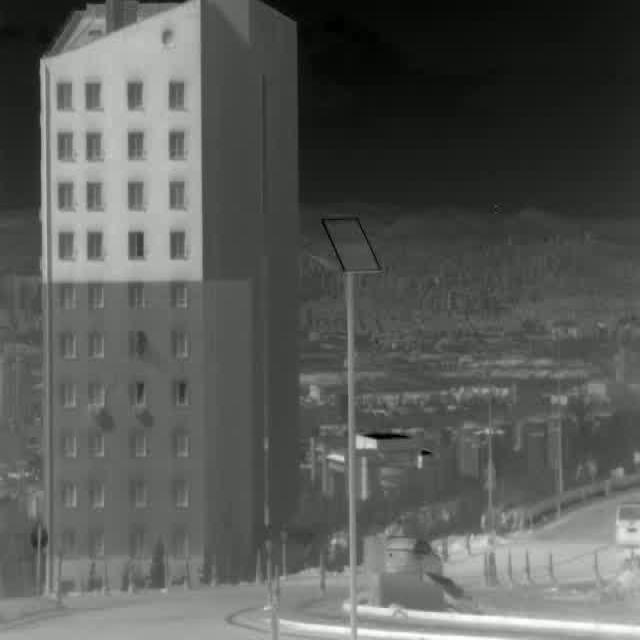Car: (384, 535, 444, 576), (613, 498, 640, 551)
